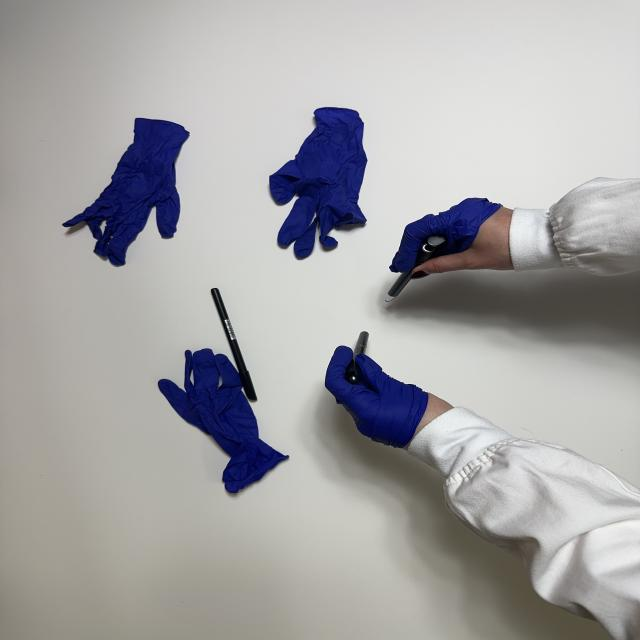glove_partial: (323, 343, 461, 449), (388, 194, 520, 280)
